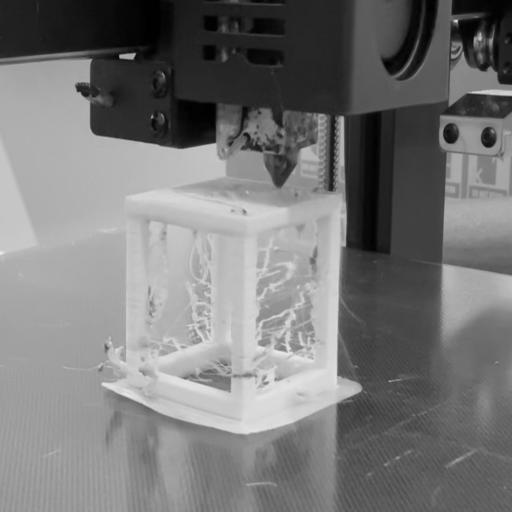spaghetti_and_stringing: (146, 222, 232, 386), (255, 229, 323, 379), (84, 338, 136, 377)
warp: (96, 379, 192, 424), (196, 410, 281, 445)
